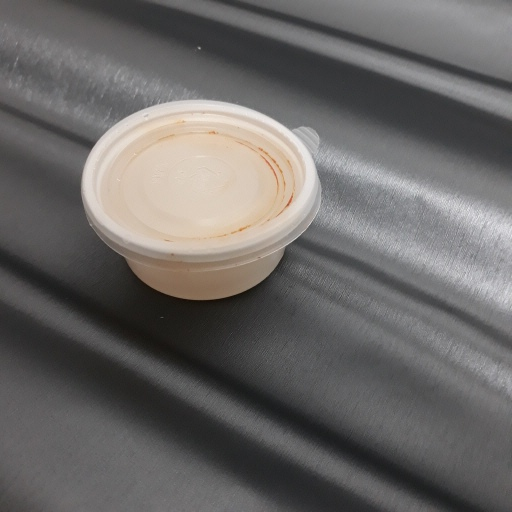Plastic_5: (80, 93, 330, 305)
